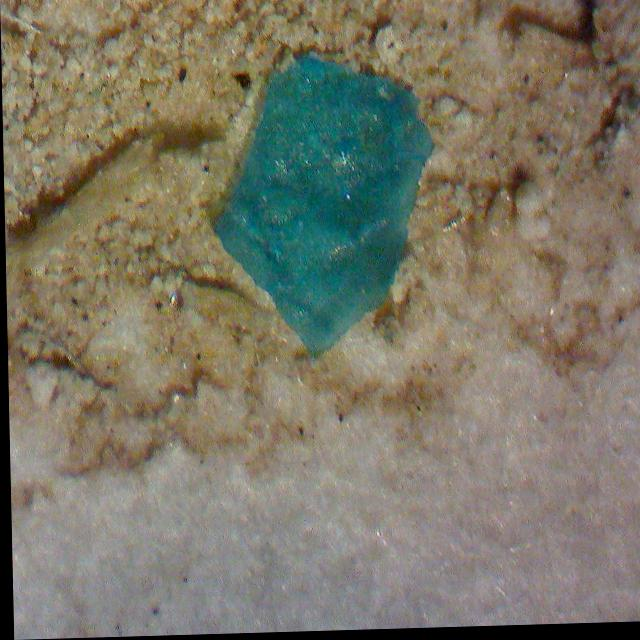microplastic: (179, 44, 459, 381)
